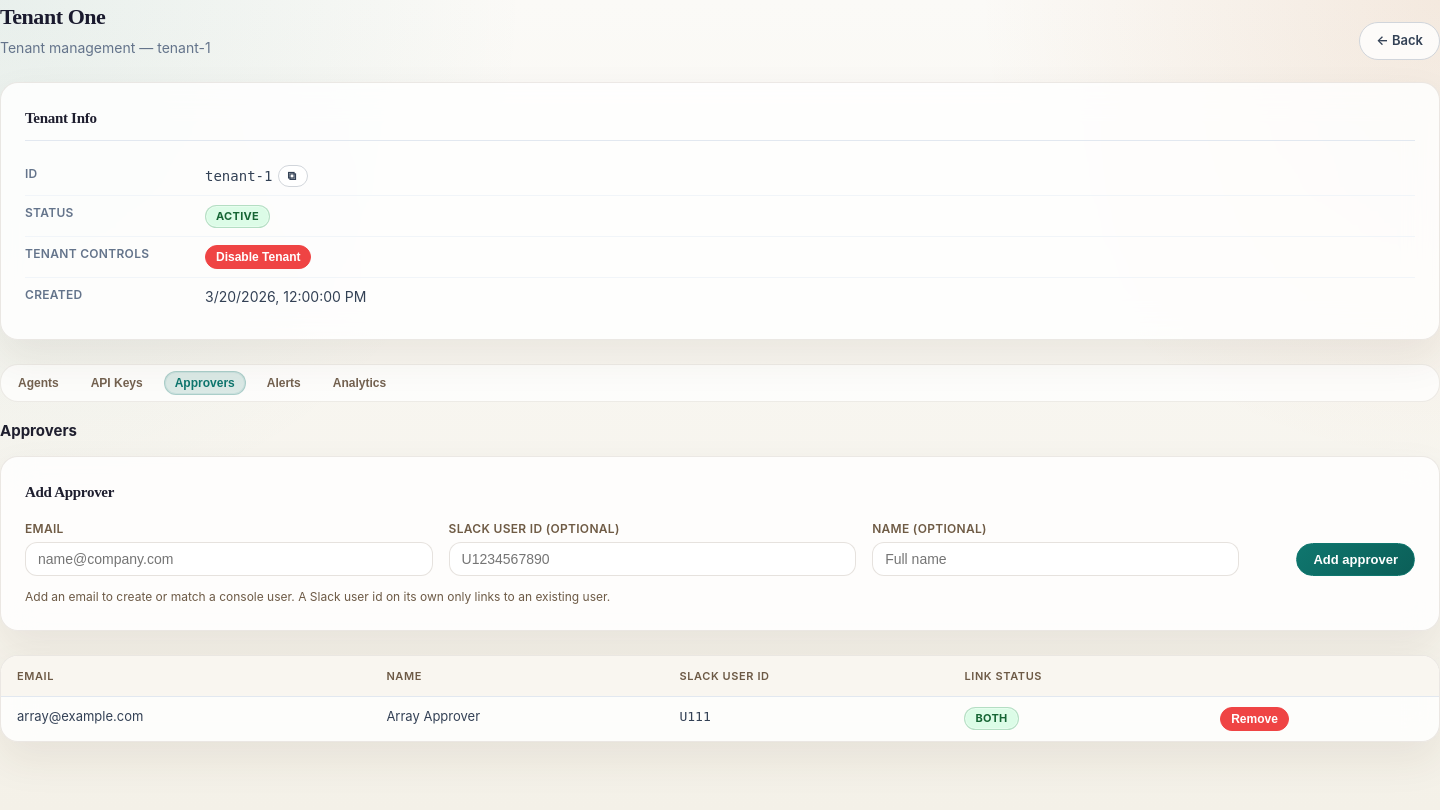
Tenant detail page › accepts array and wrapped payload variants for approvers and tenant alerts
Check: the text "array@example.com" is shown, box x1=1 y1=696 x2=370 y2=741
Click the button "Alerts" at (284, 382), box x1=256 y1=370 x2=312 y2=394
(page scrolled)
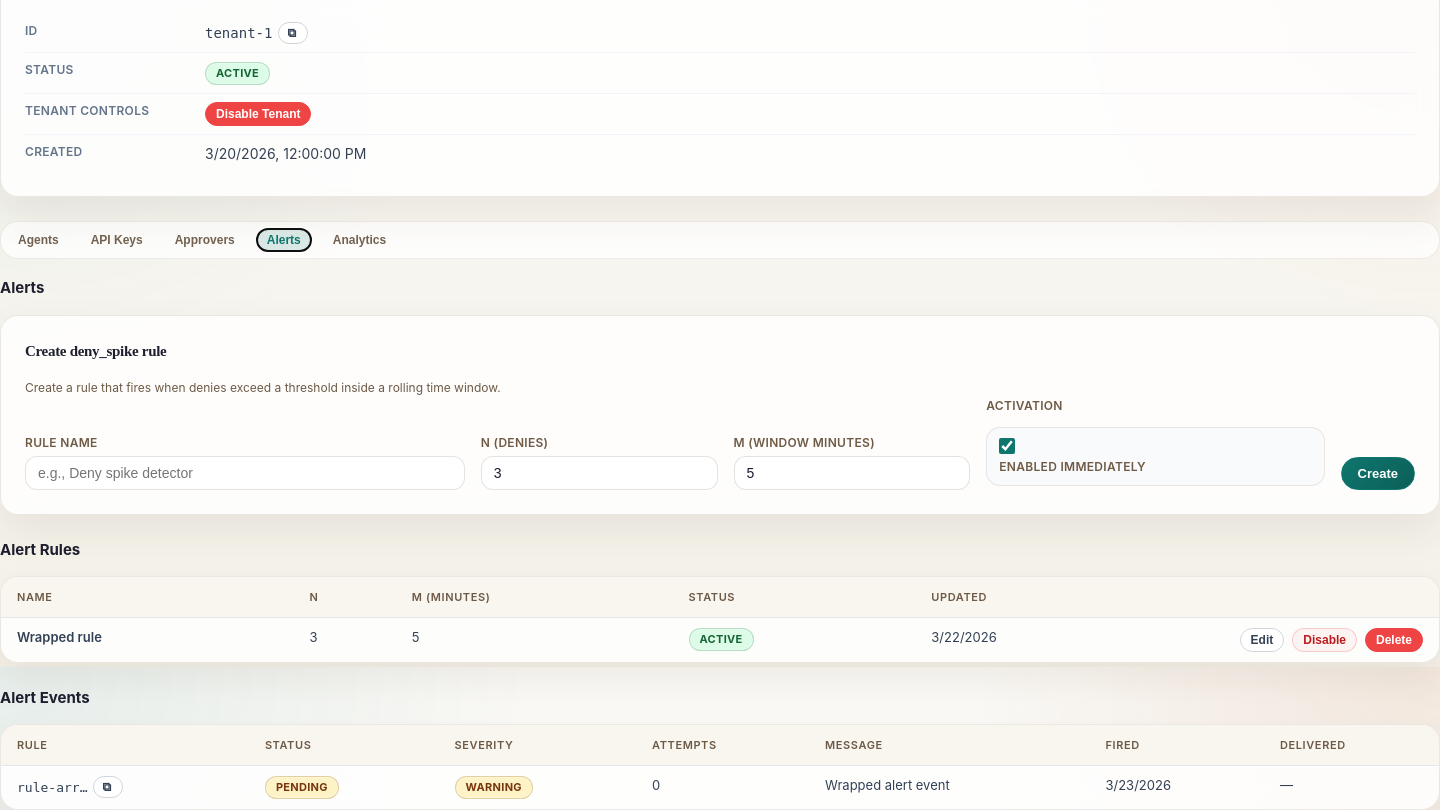
Check: the text "Wrapped rule" is shown, box x1=1 y1=618 x2=293 y2=662
Check: the text "Wrapped alert event" is shown, box x1=825 y1=777 x2=950 y2=793
